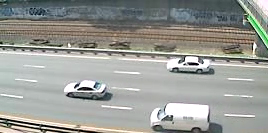car: (148, 99, 212, 133), (61, 77, 110, 102), (164, 53, 213, 77)
